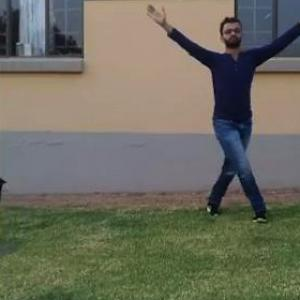takeoff: (156, 13, 300, 195)
